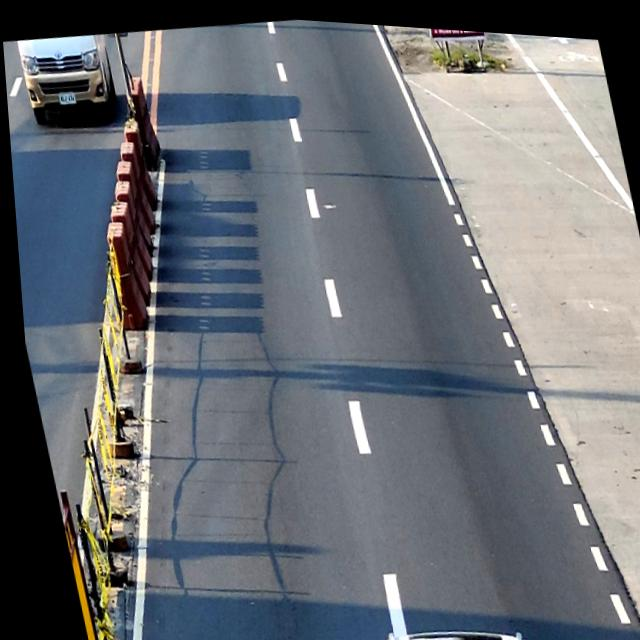Car: (15, 28, 122, 129)
License-Plate: (56, 89, 75, 105)
